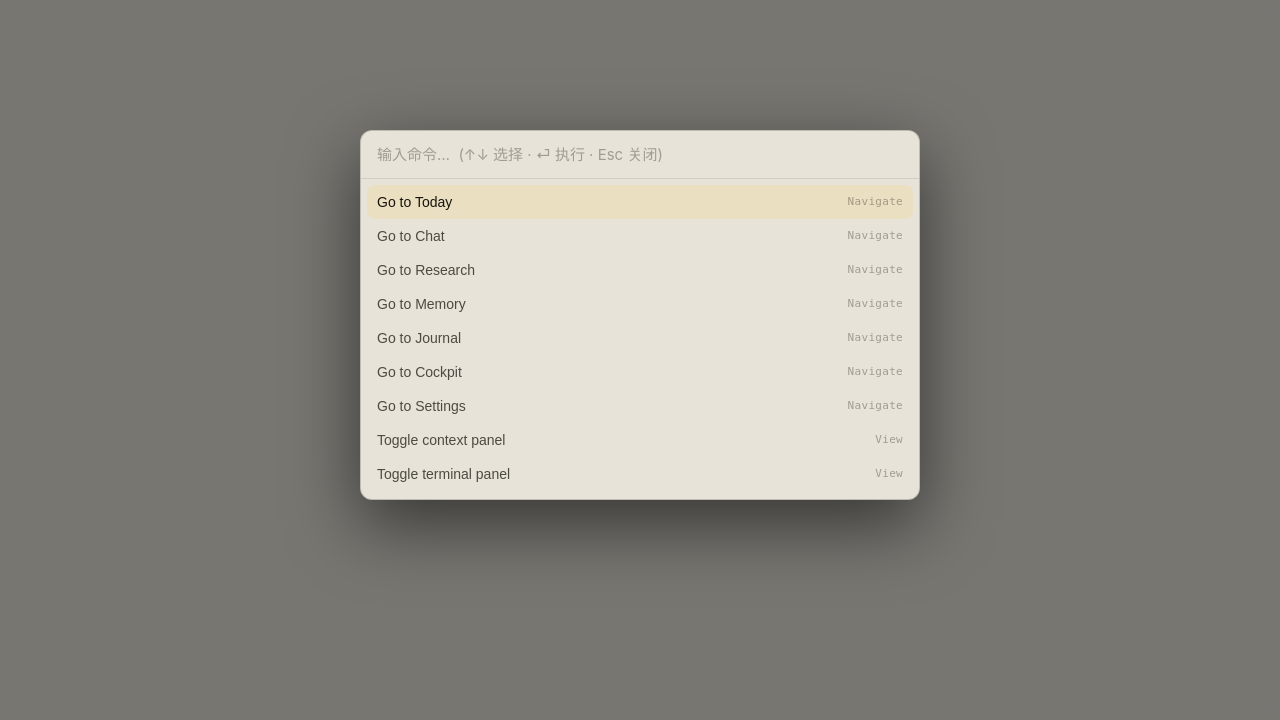
CommandPalette › shows commands when open and filters by query
Expected: the dialog is shown, [360, 130, 920, 500]
Type "chat" into the field labelled "命令" at (640, 155), box [361, 131, 919, 179]
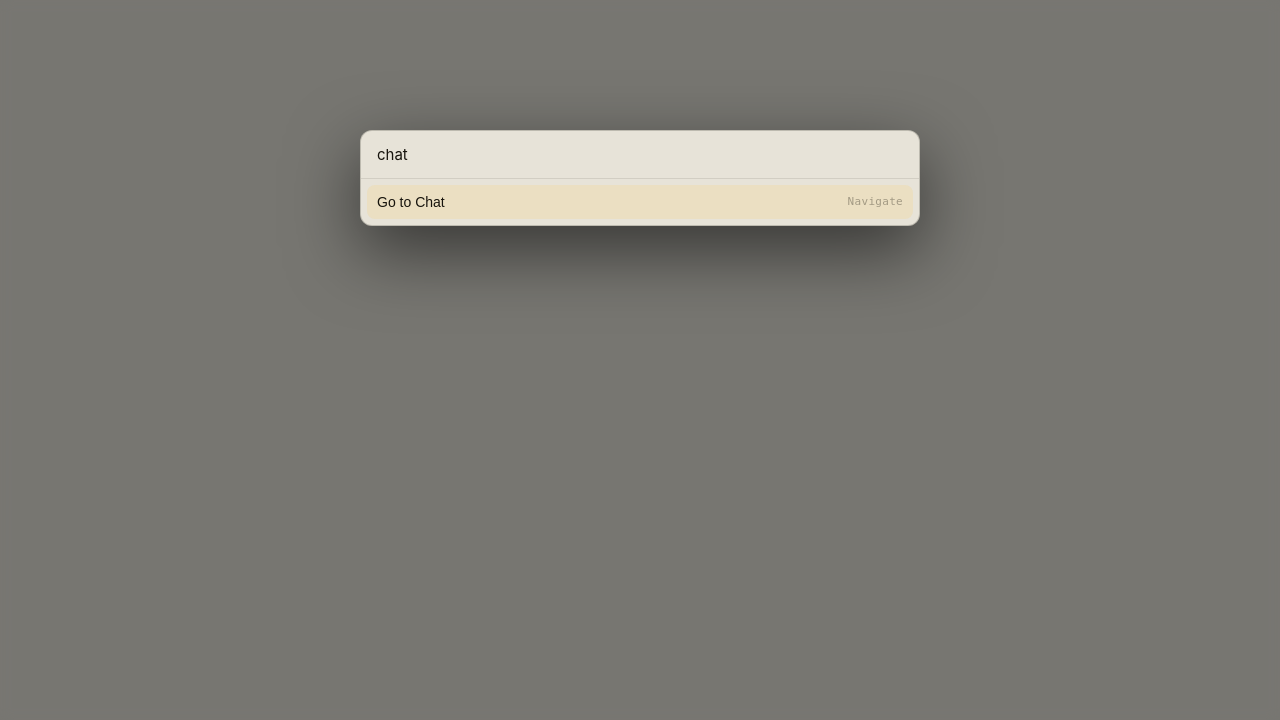
Expected: the option shows "Go to Chat", [367, 185, 913, 219]
Result: the number of options is 1 at [367, 185, 913, 219]
